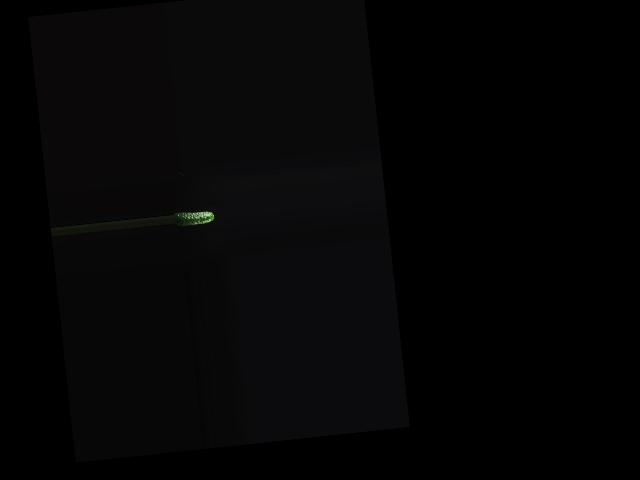cucumber: (172, 208, 214, 227)
